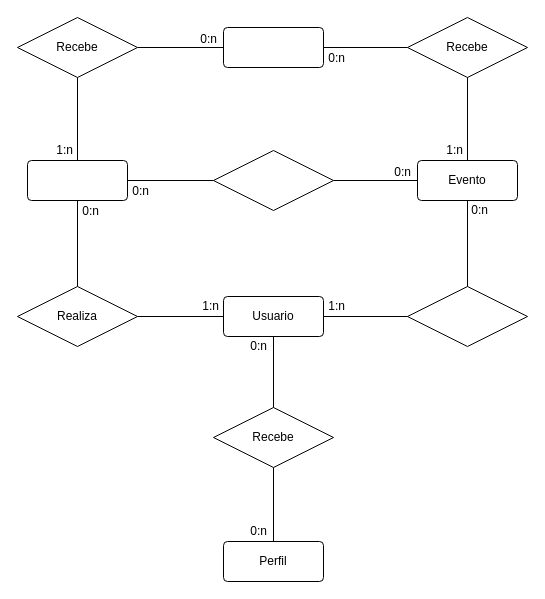
Some shapes in this 545 by 599 pixel diagram are drawn without their labels. The centre of each missing label's shape, as x and y in pixels:
"FeedBack" goes at point (273, 47).
"Gerencia" goes at point (467, 316).
"Inscricao" goes at point (77, 180).
"Participa" goes at point (273, 180).
